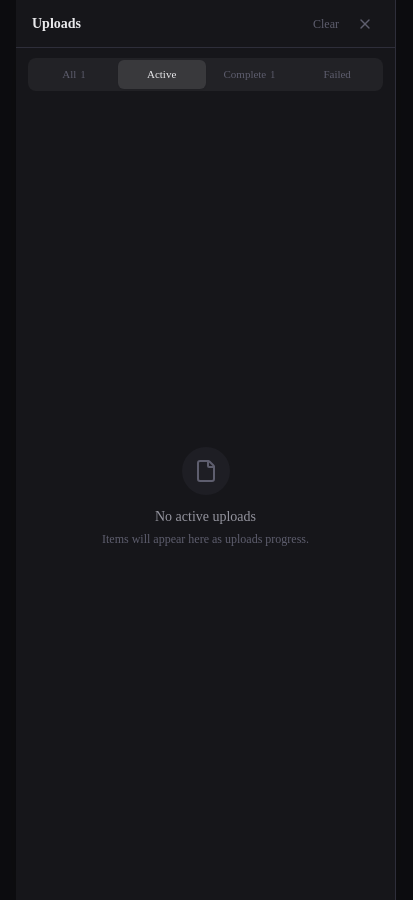
Scenario: where the history flag comes from › marks a row that came back from /me/assets
Click the button "Complete1" at [249, 74], box top-left (206, 60), bottom-right (293, 88)
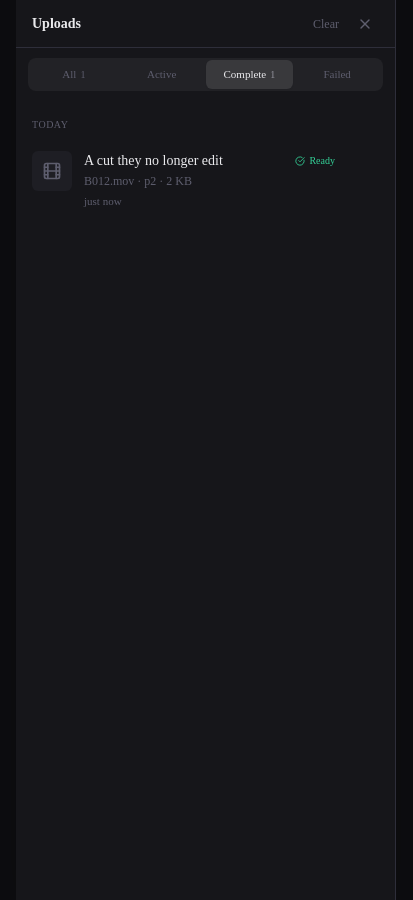
Result: the text "A cut they no longer edit" is shown at top-left (84, 152), bottom-right (223, 168)
